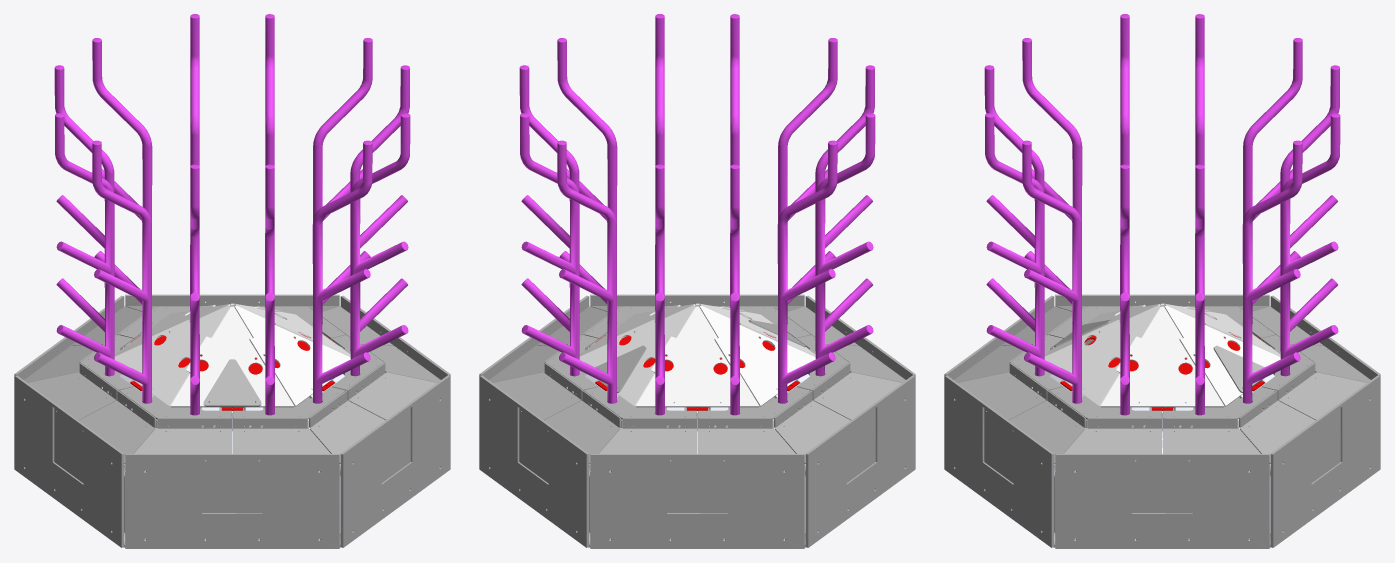
File: Reef.fbx
3 views of the same model, side by side, from view 1: azimuth 30°, elevation 25°; view 2: azimuth 150°, elevation 25°; view 3: azimuth 270°, elevation 25° (orthographic).
Parts seen in each view (by area): view 1: GE-25302.005, GE-25302.001, GE-25302.002, GE-25306.004, GE-25301, GE-25301.002, GE-25306.005, GE-25301.003, GE-25306.003, GE-25301.011, GE-25301.007, GE-25301.009 (+31 smaller); view 2: GE-25302, GE-25302.003, GE-25302.001, GE-25306.001, GE-25301.011, GE-25301.005, GE-25306.003, GE-25301.002, GE-25301.010, GE-25306, GE-25301.004, GE-25301.006 (+31 smaller); view 3: GE-25302.004, GE-25302.002, GE-25302.003, GE-25306.002, GE-25301.010, GE-25301.003, GE-25301.005, GE-25306.005, GE-25301, GE-25306, GE-25301.008, GE-25301.001 (+31 smaller).
Boxes of the visible parts, x1,y1,x2,y2 form: GE-25302.005: [125, 454, 339, 548]; GE-25302.001: [14, 375, 124, 547]; GE-25302.002: [340, 375, 450, 547]; GE-25306.004: [170, 306, 294, 407]; GE-25301: [312, 140, 372, 403]; GE-25301.002: [92, 140, 151, 403]; GE-25306.005: [234, 305, 350, 406]; GE-25301.003: [350, 113, 410, 376]; GE-25306.003: [114, 305, 230, 406]; GE-25301.011: [55, 113, 114, 376]; GE-25301.007: [350, 65, 409, 350]; GE-25301.009: [54, 65, 114, 331]; GE-25302: [590, 454, 804, 548]; GE-25302.003: [479, 375, 589, 547]; GE-25302.001: [805, 375, 915, 547]; GE-25306.001: [635, 306, 759, 407]; GE-25301.011: [777, 140, 837, 403]; GE-25301.005: [557, 140, 616, 403]; GE-25306.003: [699, 305, 815, 406]; GE-25301.002: [815, 113, 875, 376]; GE-25301.010: [520, 113, 579, 376]; GE-25306: [579, 305, 695, 406]; GE-25301.004: [815, 65, 874, 350]; GE-25301.006: [519, 65, 579, 331]; GE-25302.004: [1055, 454, 1269, 548]; GE-25302.002: [944, 375, 1054, 547]; GE-25302.003: [1270, 375, 1380, 547]; GE-25306.002: [1100, 306, 1224, 407]; GE-25301.010: [1242, 140, 1302, 403]; GE-25301.003: [1022, 140, 1081, 403]; GE-25301.005: [1280, 113, 1340, 376]; GE-25306.005: [1044, 305, 1160, 406]; GE-25301: [985, 113, 1044, 376]; GE-25306: [1164, 305, 1280, 406]; GE-25301.008: [1280, 65, 1339, 350]; GE-25301.001: [984, 65, 1044, 331].
Size of the model in its own units: 166 by 183 by 191.
